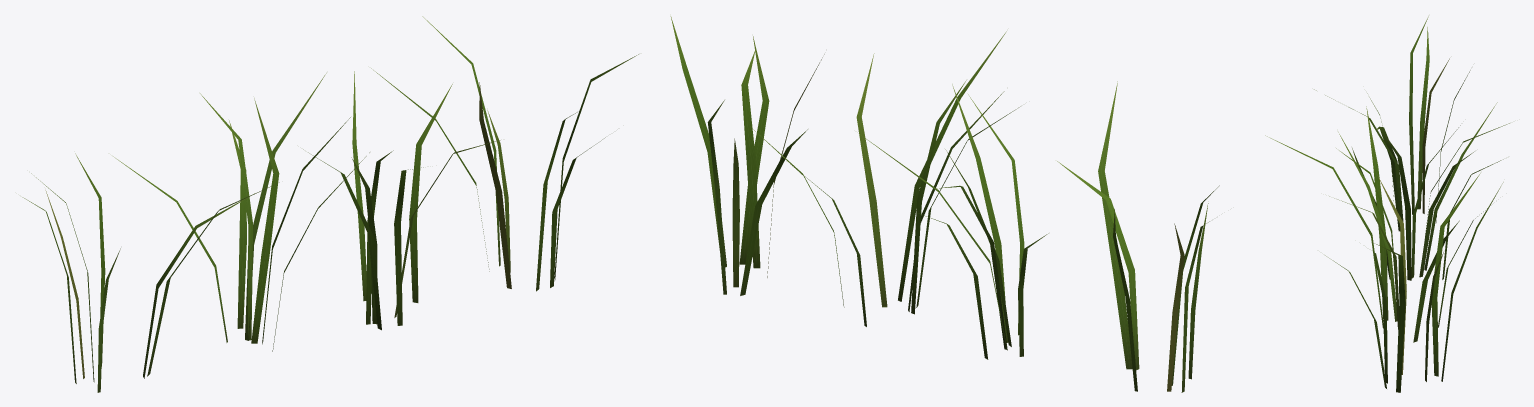
Rendered from grass_tall_lod2.glb.
The picture shows the model from 3 angles, left to right: view 1: azimuth 30°, elevation 25°; view 2: azimuth 150°, elevation 25°; view 3: azimuth 270°, elevation 25°; orthographic projection. The views are drawn at different scales.
Parts seen in each view (by area): view 1: Grass_tall_02_LOD2, Grass_tall_03_LOD2, Grass_tall_04_LOD2, Grass_tall_01_LOD2; view 2: Grass_tall_04_LOD2, Grass_tall_01_LOD2, Grass_tall_03_LOD2, Grass_tall_02_LOD2; view 3: Grass_tall_04_LOD2, Grass_tall_03_LOD2, Grass_tall_01_LOD2, Grass_tall_02_LOD2.
Part boxes in pixels (left/top/right/bottom): Grass_tall_02_LOD2: left=113, top=73, right=369, bottom=351; Grass_tall_03_LOD2: left=303, top=71, right=500, bottom=330; Grass_tall_04_LOD2: left=371, top=16, right=638, bottom=291; Grass_tall_01_LOD2: left=22, top=153, right=279, bottom=392; Grass_tall_04_LOD2: left=670, top=16, right=824, bottom=295; Grass_tall_01_LOD2: left=1057, top=81, right=1219, bottom=392; Grass_tall_03_LOD2: left=753, top=31, right=1020, bottom=326; Grass_tall_02_LOD2: left=860, top=84, right=1048, bottom=359; Grass_tall_04_LOD2: left=1325, top=173, right=1503, bottom=392; Grass_tall_03_LOD2: left=1265, top=106, right=1487, bottom=342; Grass_tall_01_LOD2: left=1314, top=16, right=1470, bottom=231; Grass_tall_02_LOD2: left=1352, top=102, right=1509, bottom=280.
Bounding box in the file's own units: 3.64 × 1.37 × 1.69.
1 material, 1 textured.
